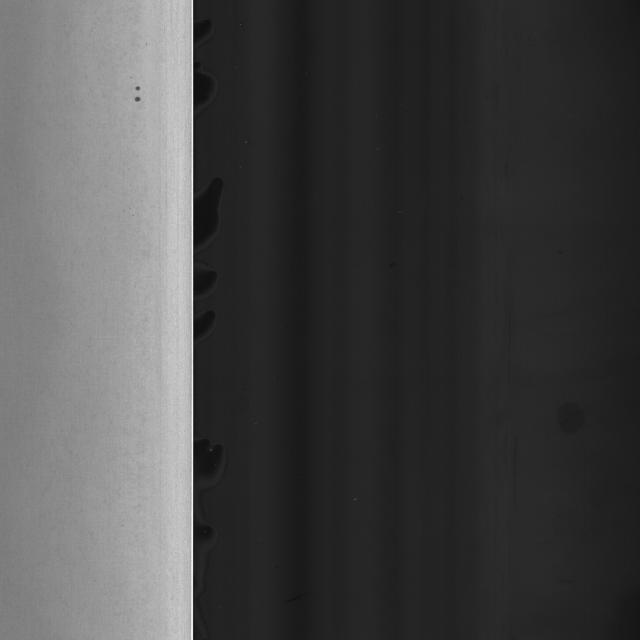welding_line: (128, 76, 150, 108)
